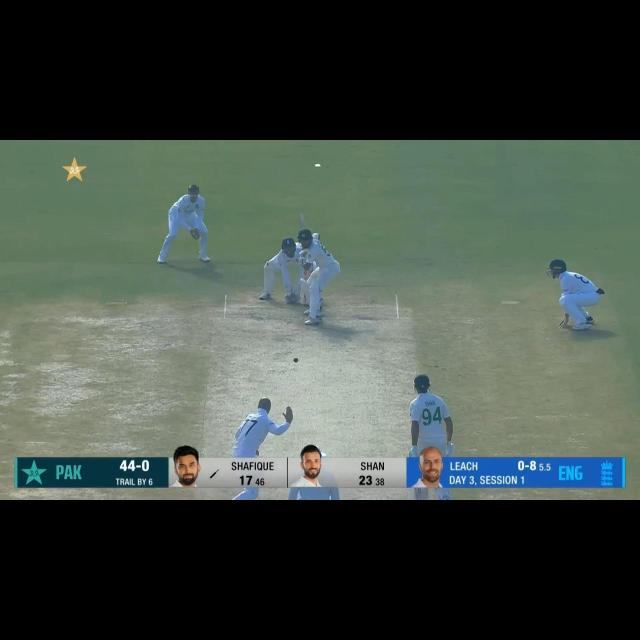bat: (295, 212, 307, 232)
toe: (296, 212, 304, 218)
